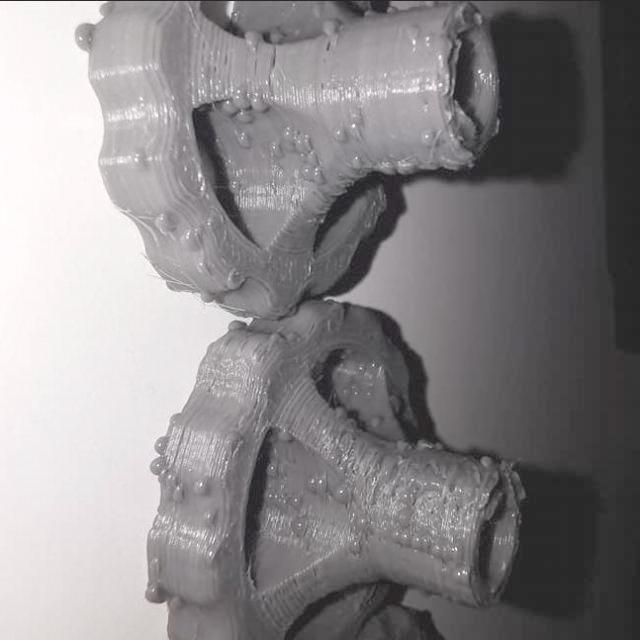zits: (239, 26, 269, 54), (74, 18, 98, 52), (146, 211, 174, 237), (318, 16, 344, 42), (129, 148, 152, 176), (248, 92, 274, 116), (327, 119, 351, 145), (306, 471, 332, 495), (344, 148, 366, 172), (232, 126, 254, 150), (392, 154, 414, 177), (446, 539, 468, 562), (420, 129, 442, 151), (218, 96, 242, 116), (290, 512, 310, 536), (308, 164, 326, 190), (198, 503, 216, 528), (329, 482, 349, 504), (148, 455, 168, 477), (342, 536, 364, 556), (300, 149, 320, 169), (190, 475, 210, 495), (345, 116, 364, 136), (282, 123, 298, 146), (145, 582, 163, 602), (168, 594, 185, 614), (154, 434, 169, 456), (170, 484, 188, 502), (288, 492, 304, 512), (478, 451, 492, 473), (426, 543, 446, 558), (398, 528, 413, 548), (410, 535, 428, 551), (161, 471, 175, 488)
